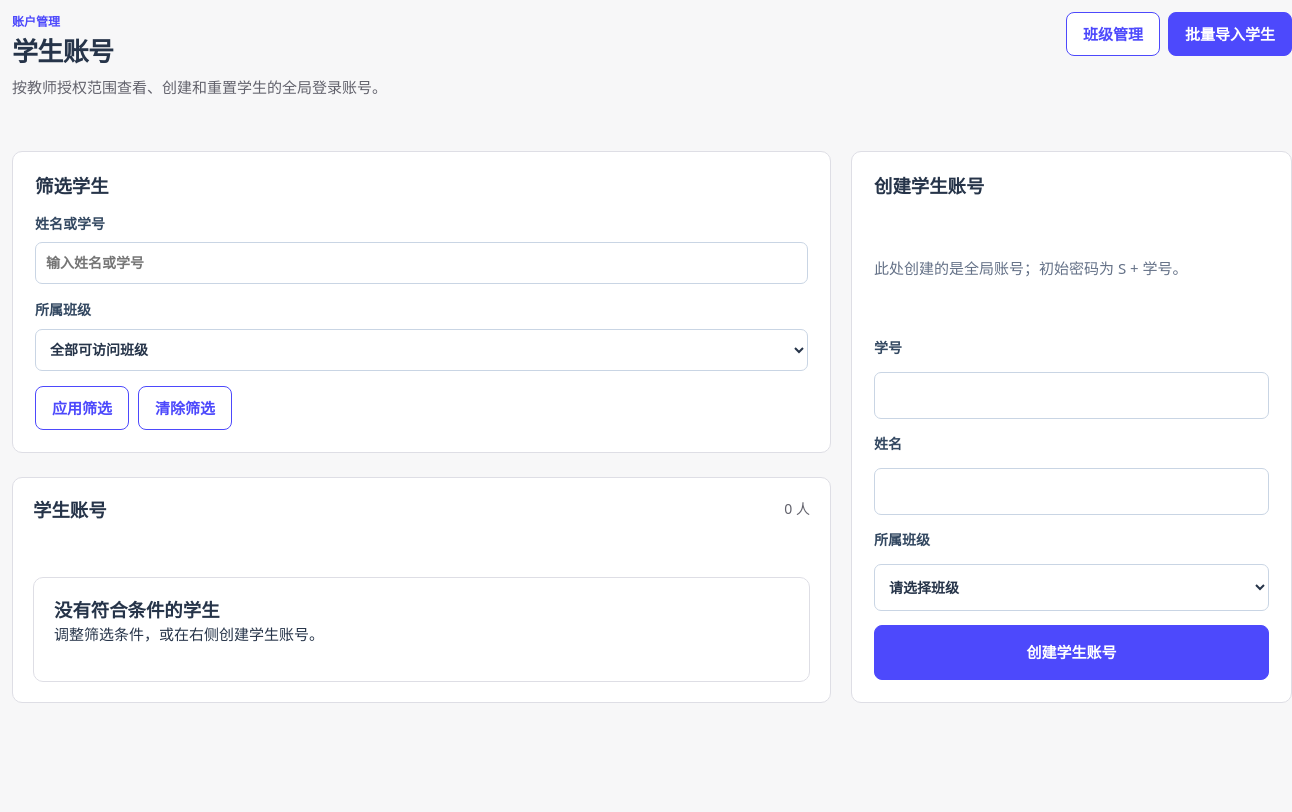
it: TeacherAccountStudentList › creates a legacy account through the server-authorized Vue form
This screenshot has width=1292, height=812.
Type "A001" into the field named "student_number" at (1072, 395), box [874, 372, 1269, 419]
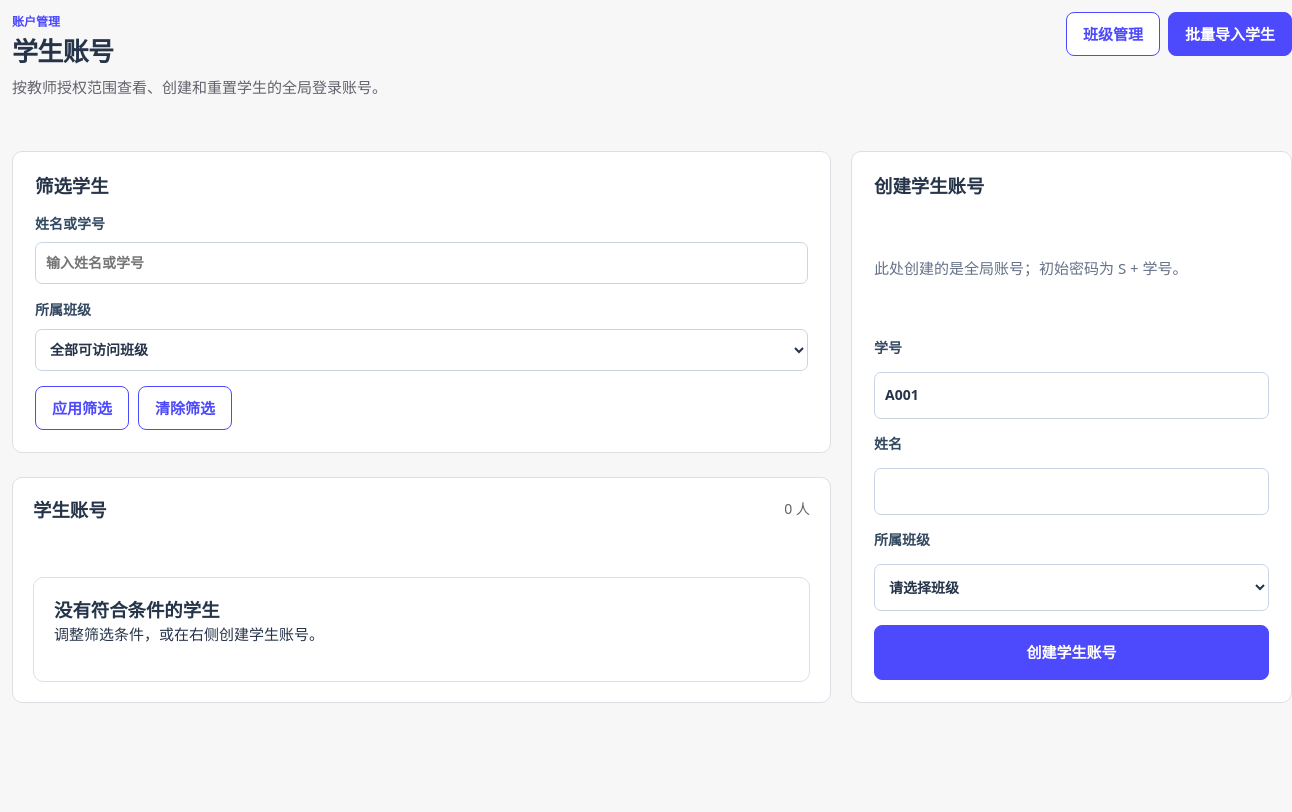
Type "账户学生" into the field named "display_name" at (1072, 491), box [874, 468, 1269, 515]
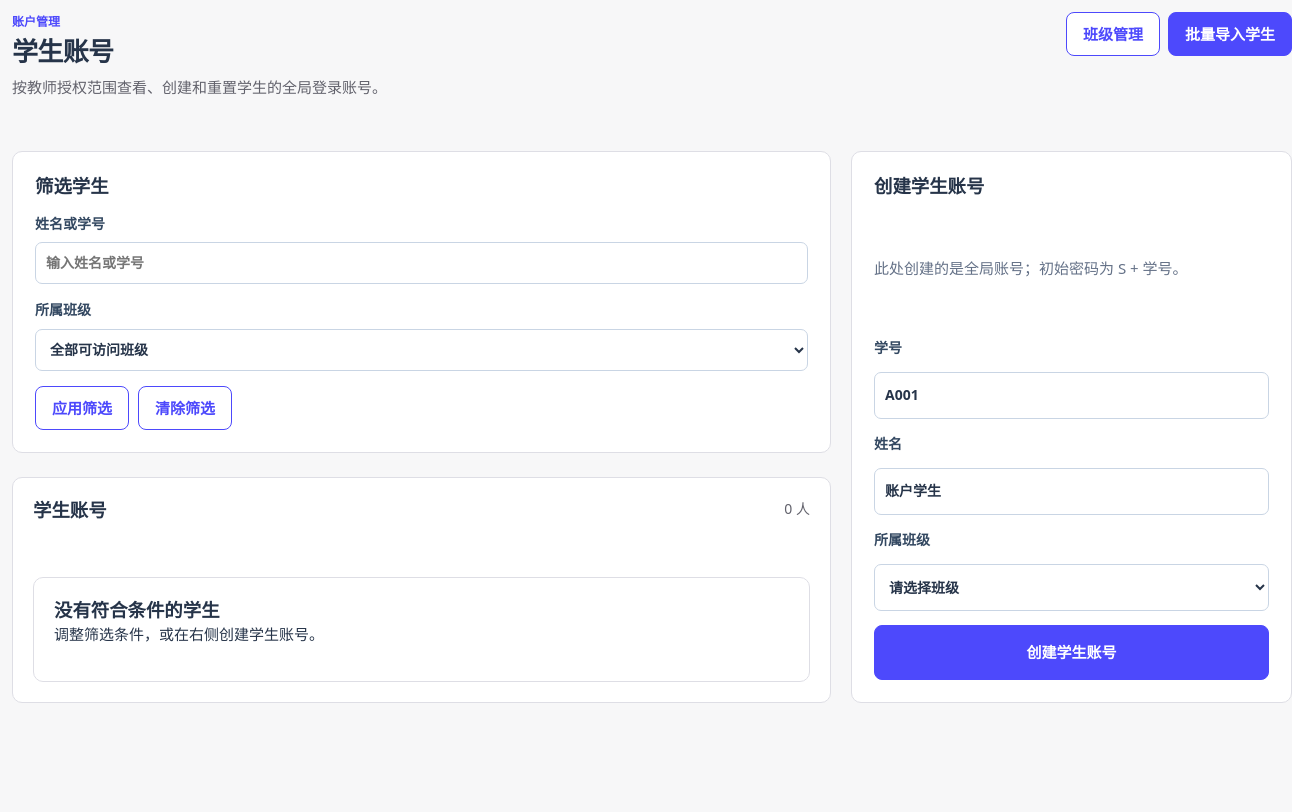
Select "2026 账户班" in the dropdown named "class_group" at (1072, 587), box [874, 564, 1269, 611]
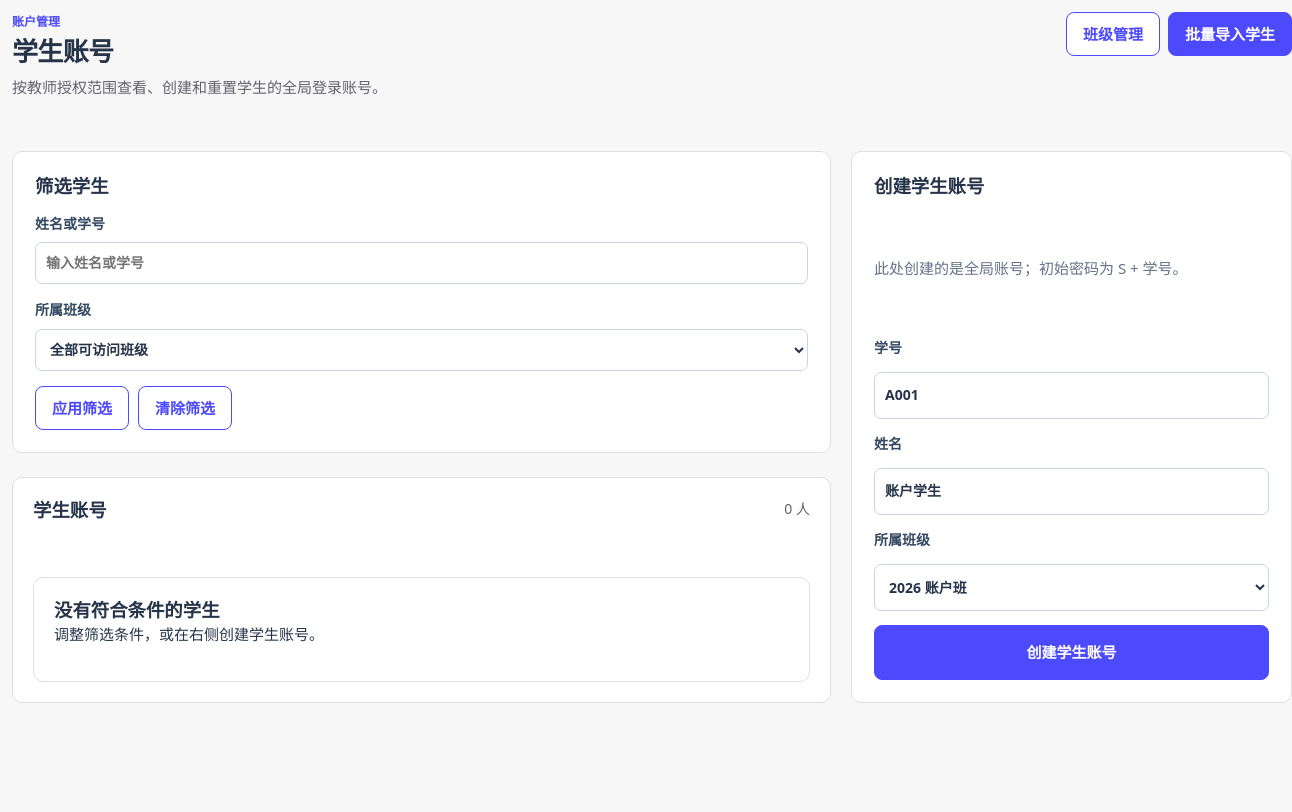
Submit the form "学号 姓名 所属班级 创建学生账号", box [874, 337, 1269, 680]
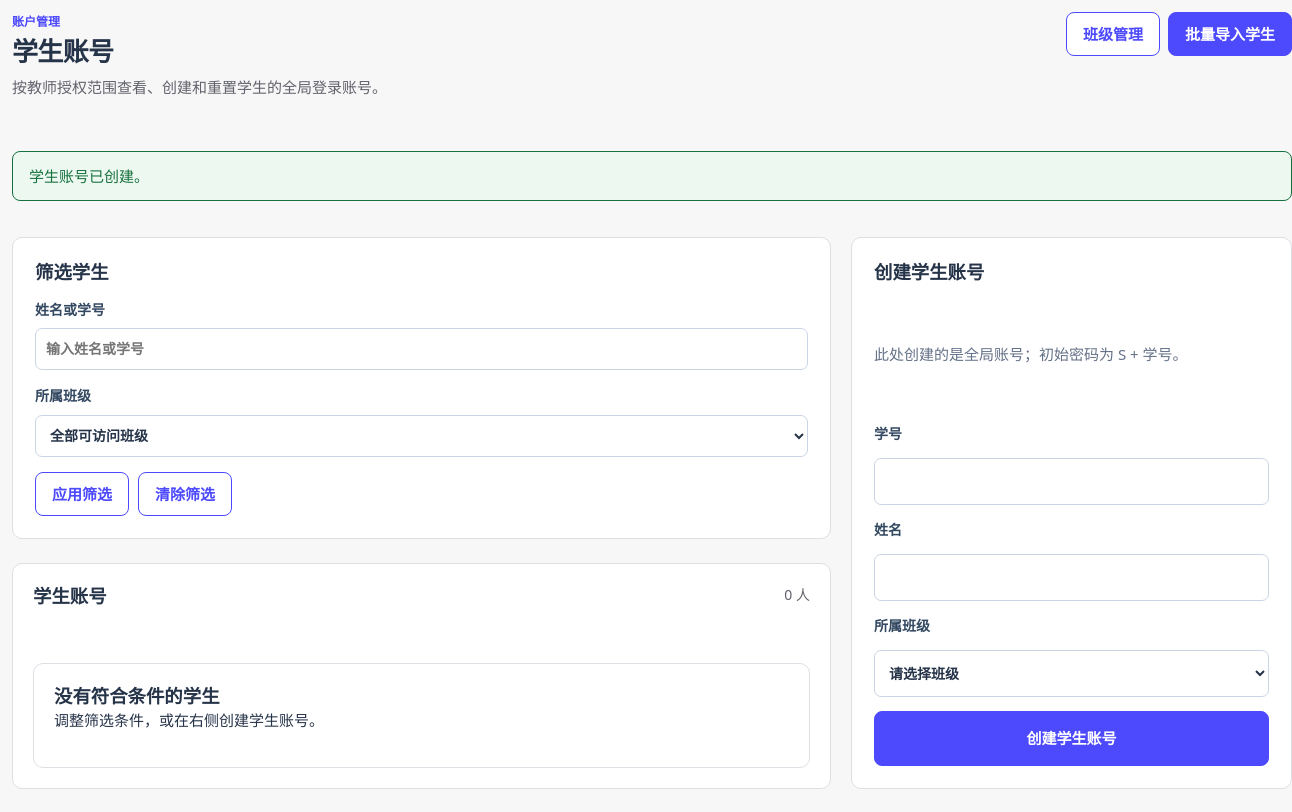
Expected: the text "初始密码为 S + 学号" is shown, [874, 344, 1188, 364]
Result: the text "学生账号已创建。" is shown at [12, 151, 1291, 201]
